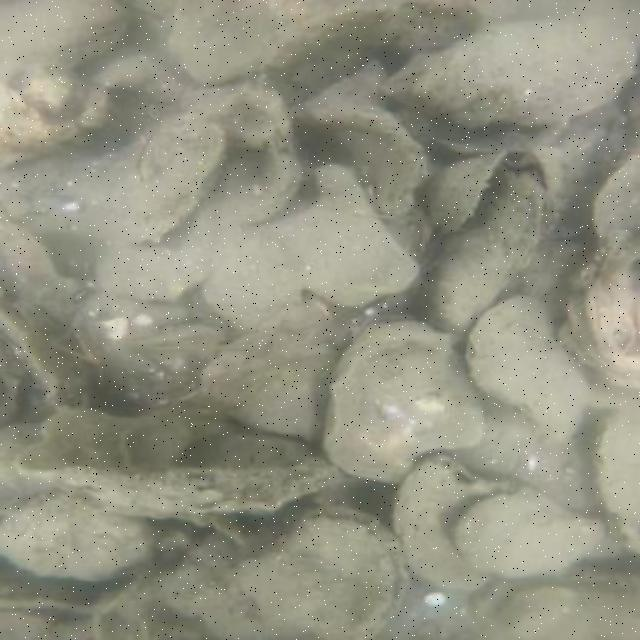Oyster-Closed: (14, 403, 341, 515), (382, 13, 640, 131), (314, 315, 484, 485), (426, 163, 560, 347), (160, 82, 310, 225), (241, 513, 408, 637), (463, 291, 588, 448), (281, 165, 420, 306), (302, 100, 433, 216), (392, 464, 509, 592), (116, 125, 230, 249), (453, 491, 610, 581), (1, 493, 154, 581), (0, 0, 135, 88), (169, 0, 279, 84), (585, 237, 640, 393), (594, 152, 640, 240)
